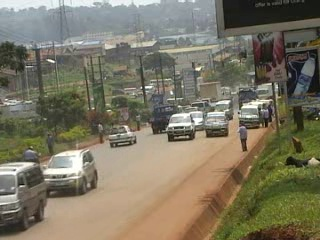Car: (40, 146, 100, 197), (164, 111, 195, 143), (105, 122, 139, 148), (183, 108, 204, 130)
Motorcycle: (21, 143, 45, 168)
